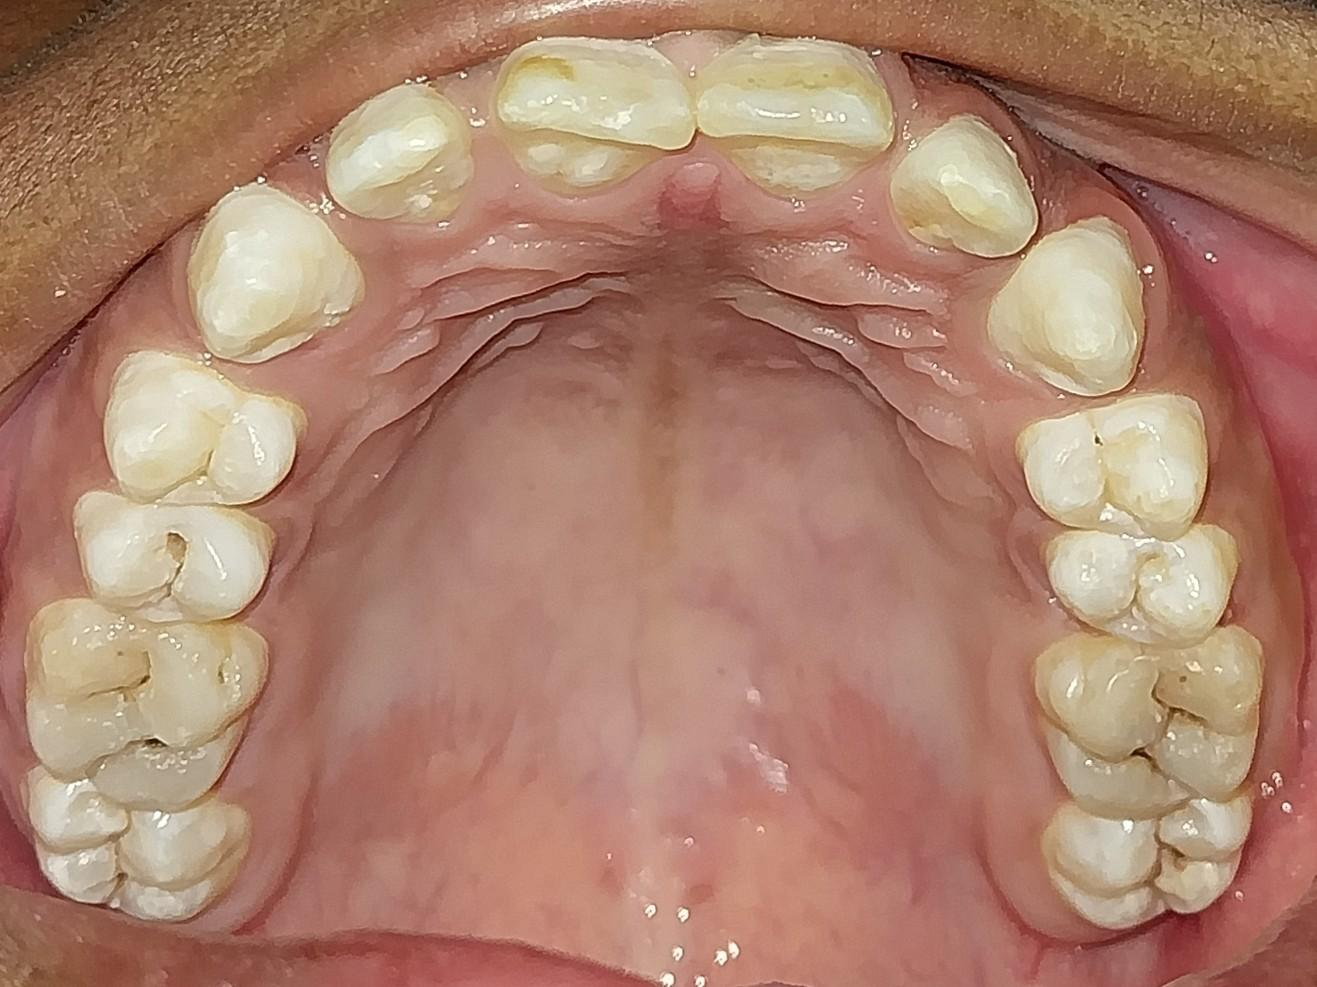D: (20, 598, 273, 815), (1033, 625, 1263, 822), (17, 761, 251, 923), (98, 345, 302, 504), (1042, 791, 1252, 931), (73, 487, 267, 611), (1046, 519, 1239, 641)
